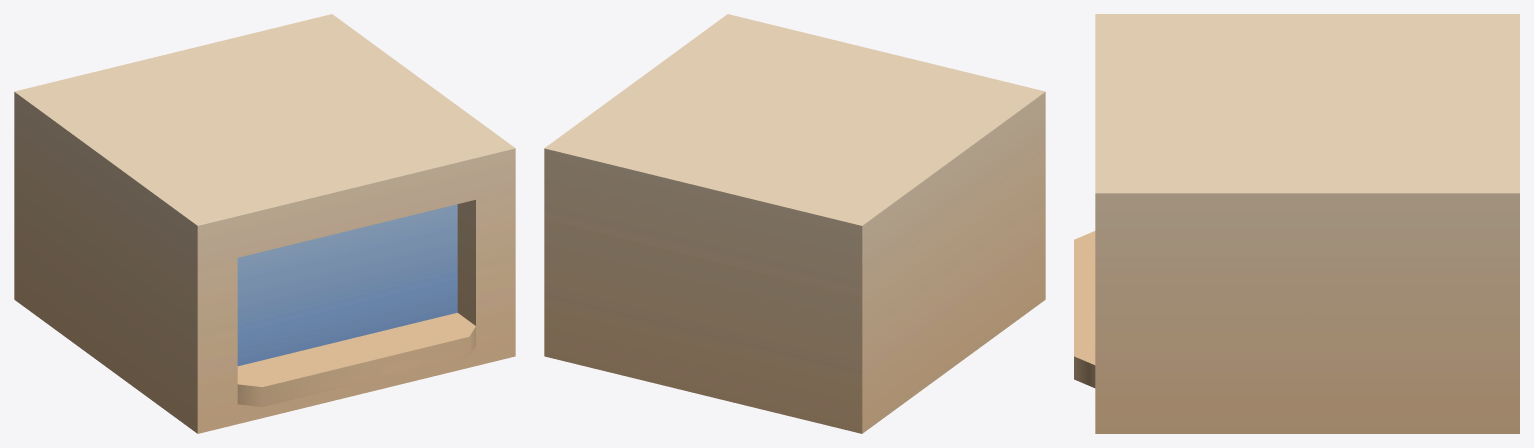
File: kenney-modular-buildings-building-window-wide-sill.glb
3 views of the same model, side by side, from view 1: azimuth 30°, elevation 25°; view 2: azimuth 150°, elevation 25°; view 3: azimuth 270°, elevation 25° (orthographic). The views are drawn at different scales.
Visible parts, largest first — view 1: building-window-wide-sill; view 2: building-window-wide-sill; view 3: building-window-wide-sill.
Boxes of the visible parts, bbox=[...] form: building-window-wide-sill: bbox=[14, 14, 515, 433]; building-window-wide-sill: bbox=[544, 14, 1045, 433]; building-window-wide-sill: bbox=[1074, 14, 1519, 433].
Bounding box in the file's own units: 1 × 0.6251 × 1.05.
Materials: 1 (1 with a texture image).
